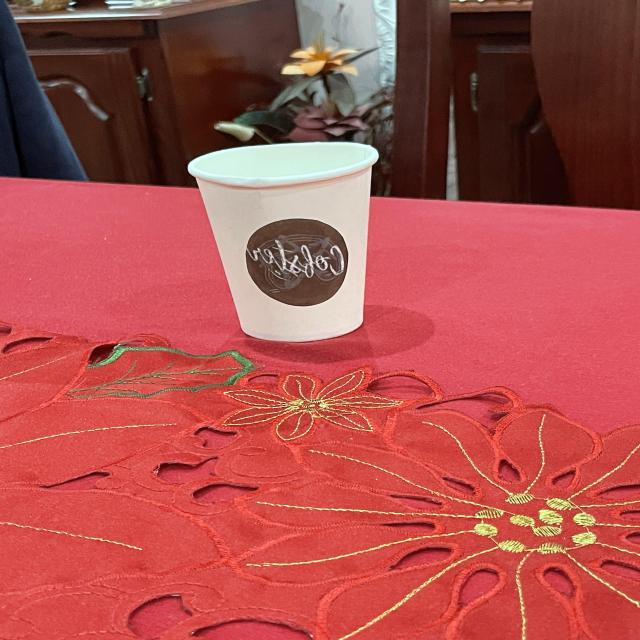medium: (182, 132, 388, 347)
